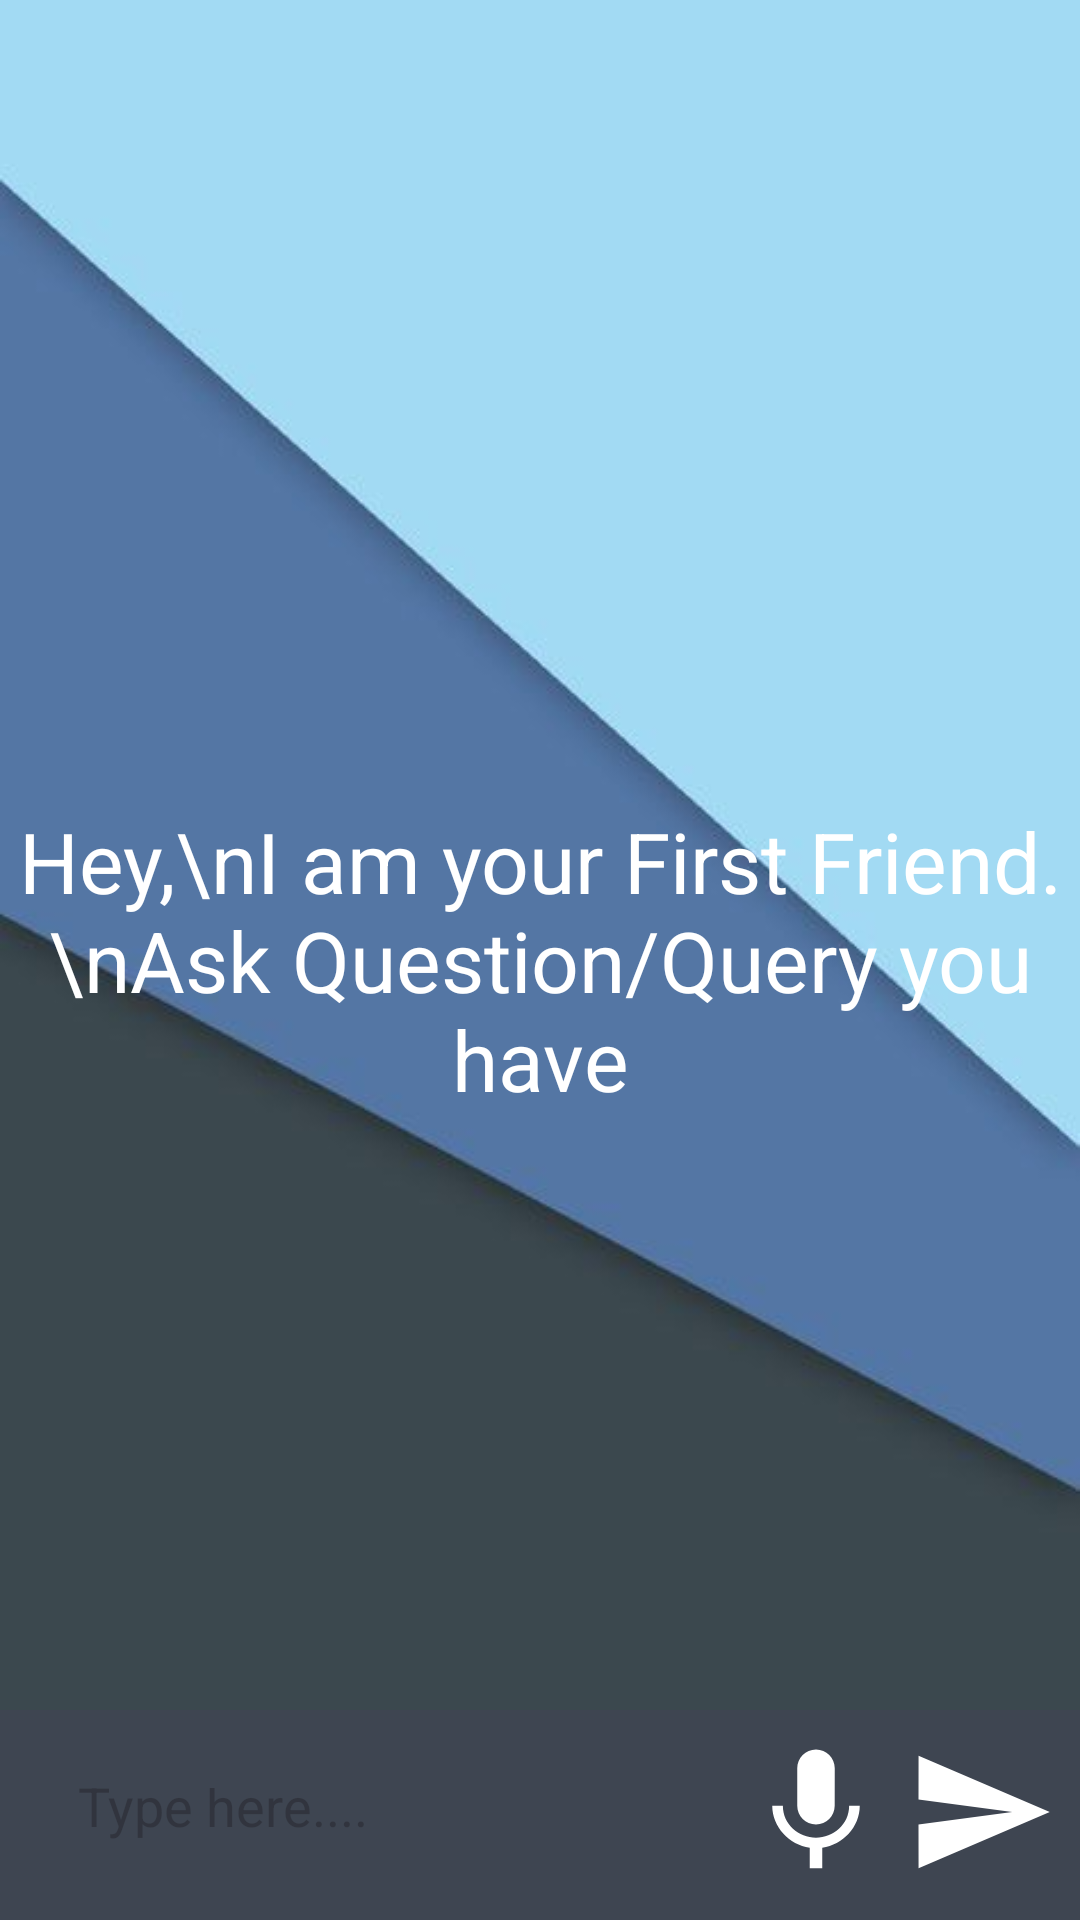

Named icons in this screenshot (1080px x 1920px) and their bounding boxes, [x1, y1, x2, y2]:
mic: [772, 1749, 860, 1869]
send: [918, 1756, 1049, 1868]
